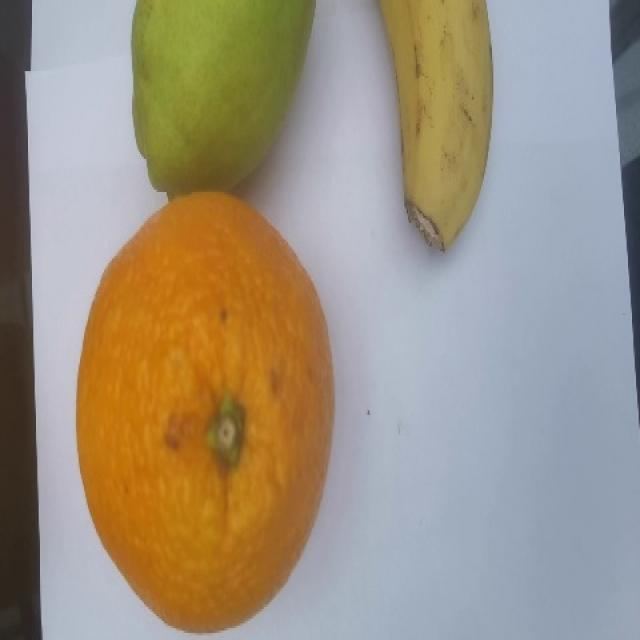Banana: (369, 0, 498, 256)
Orange: (74, 187, 335, 634)
